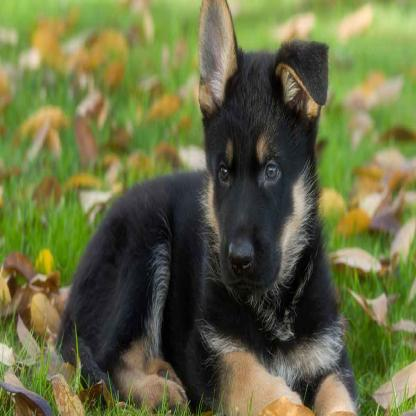german shepherd: (63, 1, 356, 406)
